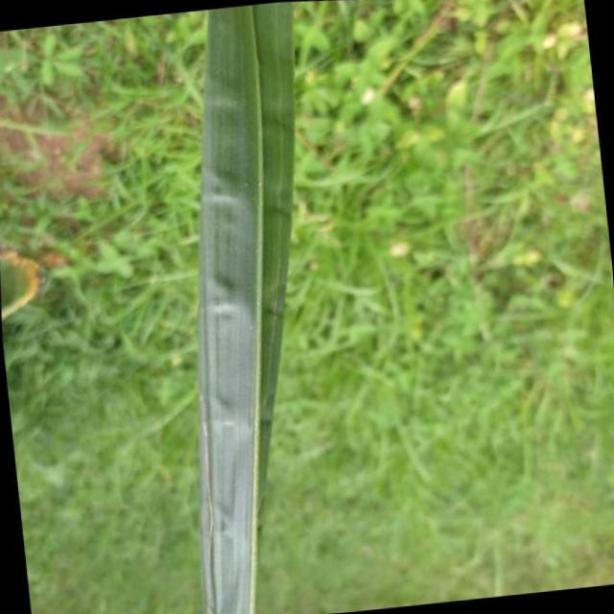Boron: (197, 0, 292, 614)
